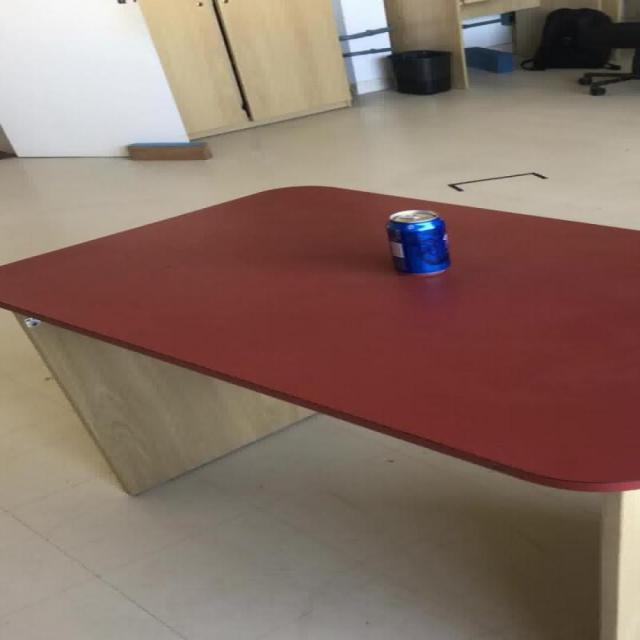Tonic: (384, 208, 450, 275)
